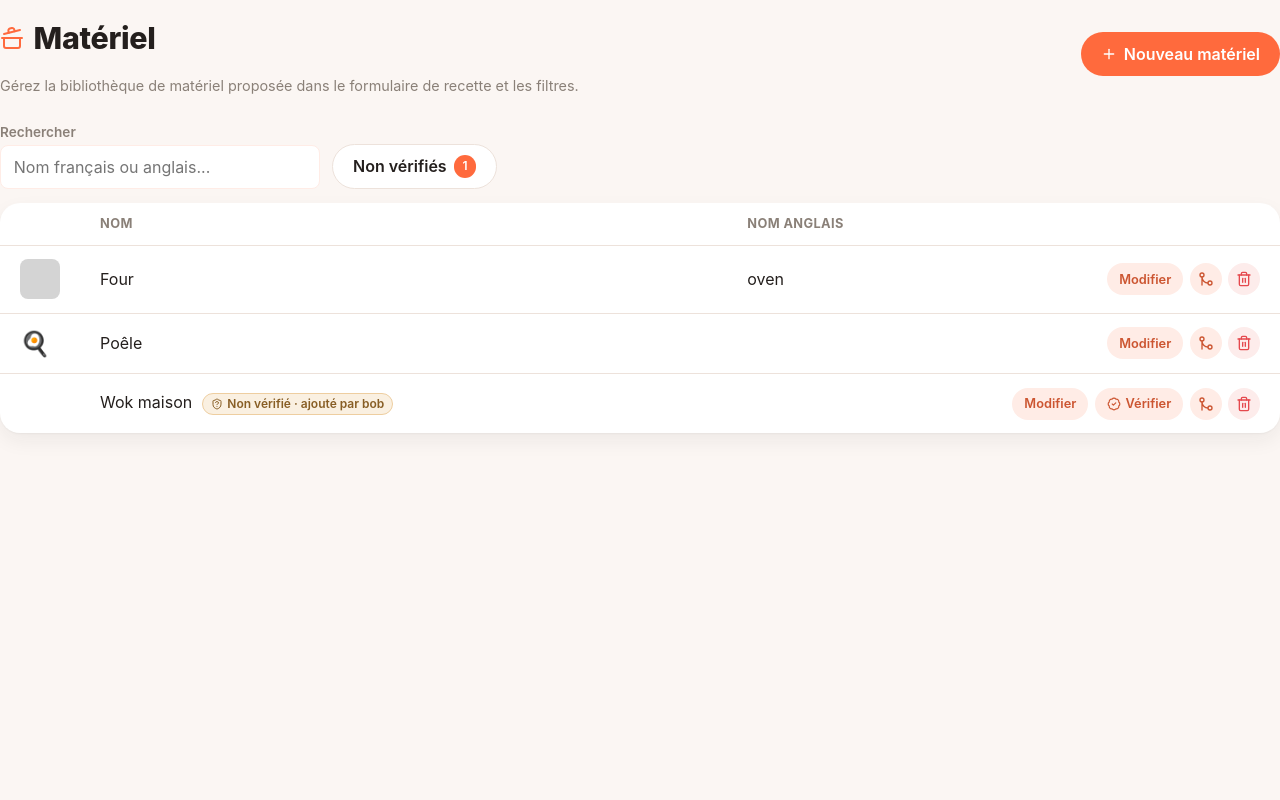
AdminCookwareView › review queue › reports a failed merge
Click the button with test id "merge" in the row of "Wok maison": (1206, 404) [1190, 388, 1222, 420]
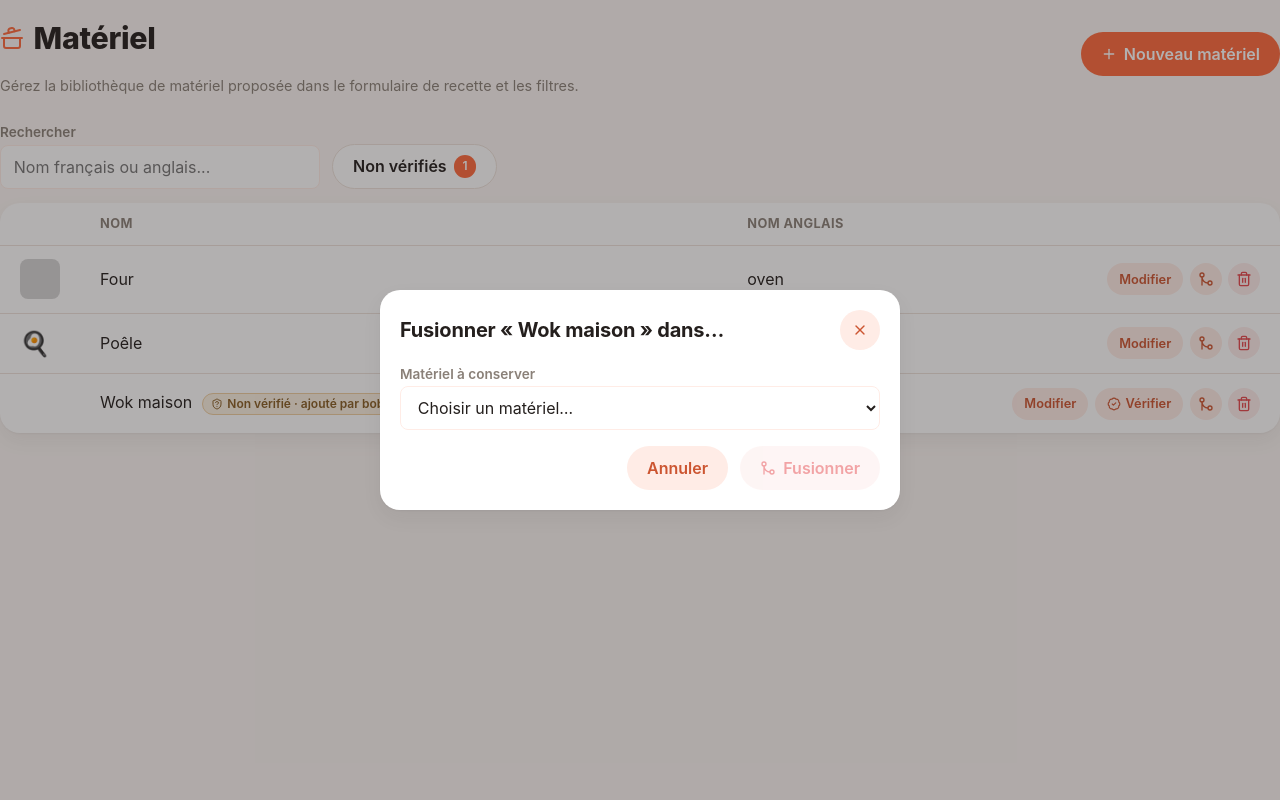
Select "Four" in the dropdown with id "cookware-merge-target": (640, 408) [400, 386, 880, 430]
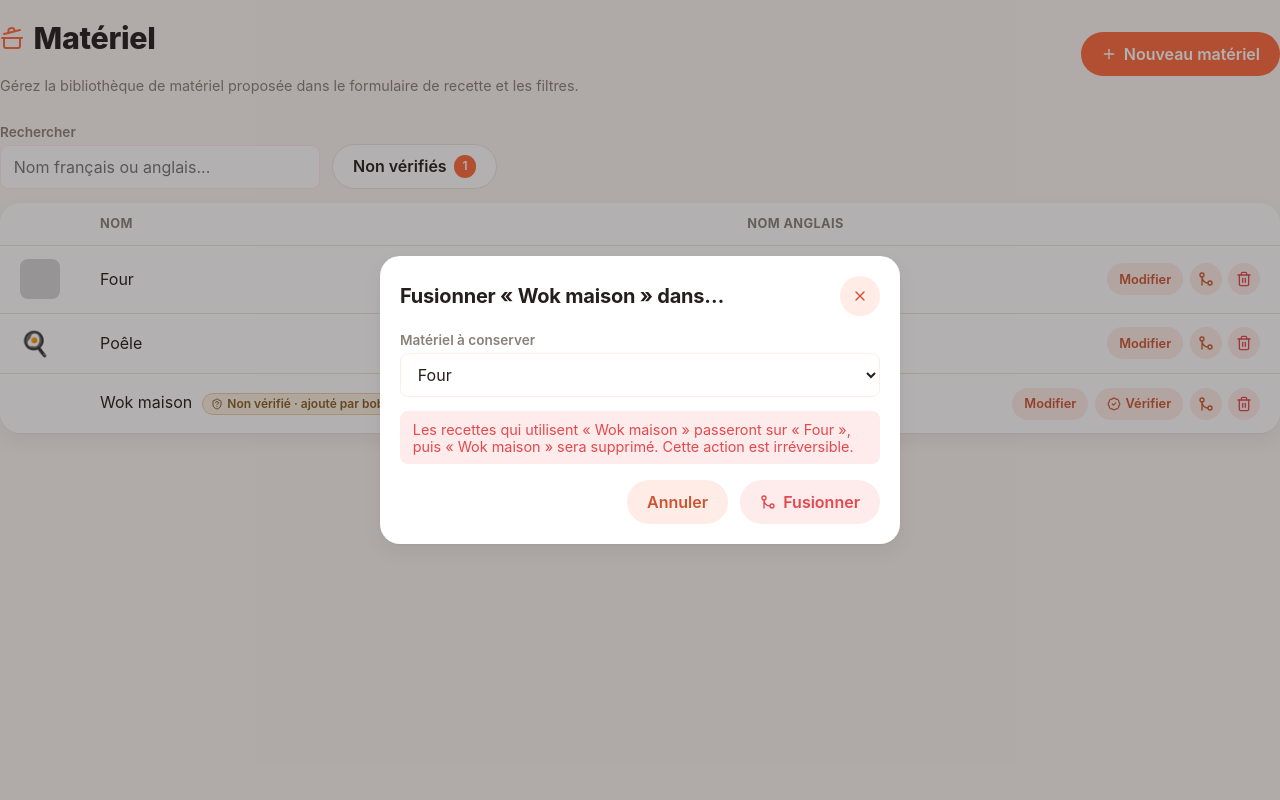
Submit the form, box [400, 332, 880, 524]
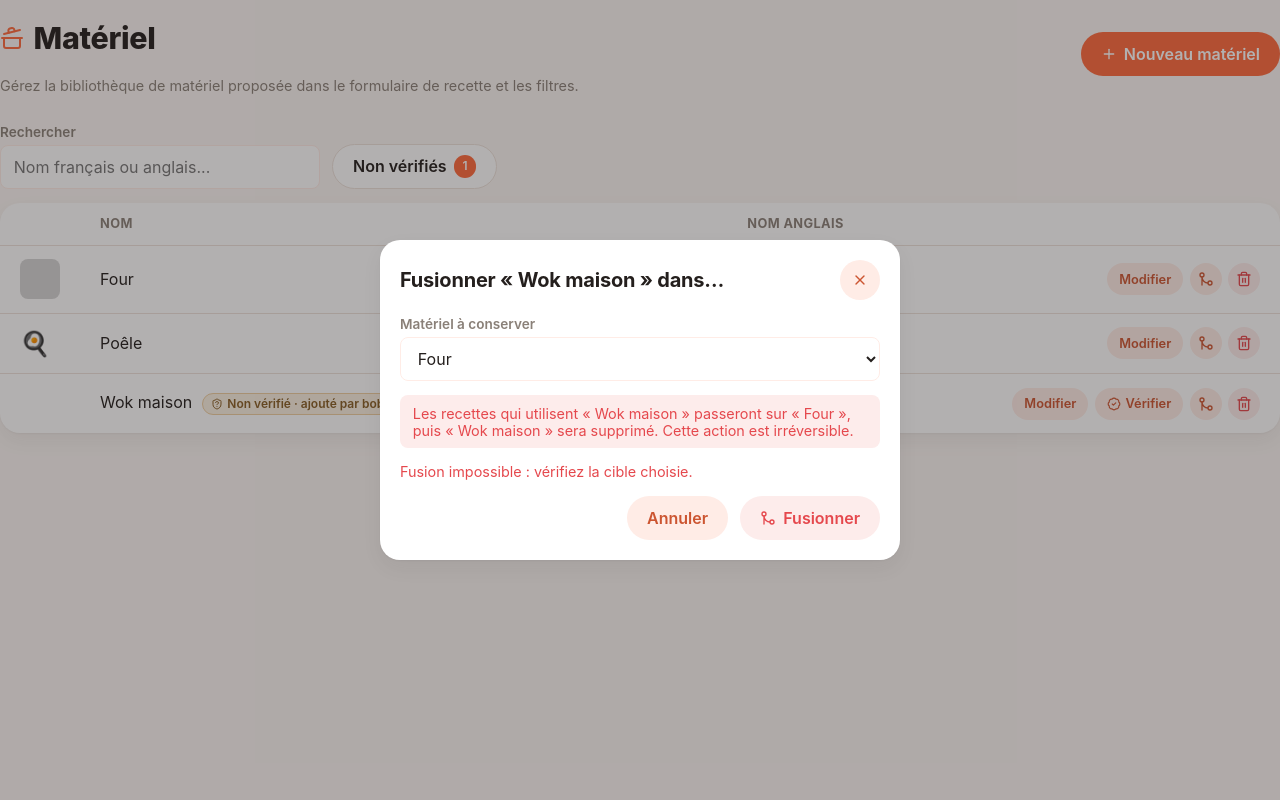
Expected: the message "Fusion impossible : vérifiez la cible choisie." is shown, [400, 463, 693, 480]
